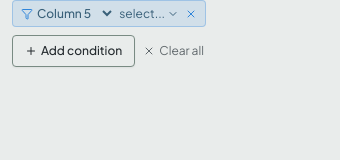
the subgroup filter’s values while blind (#1615) › positive control: not blind — every coder, and the values are offered
Click the button "select...". click: [149, 14]
box: [119,6,179,22]
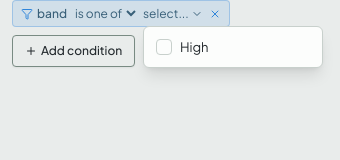
Expected: the option "High" is shown, [144,30,322,62]
